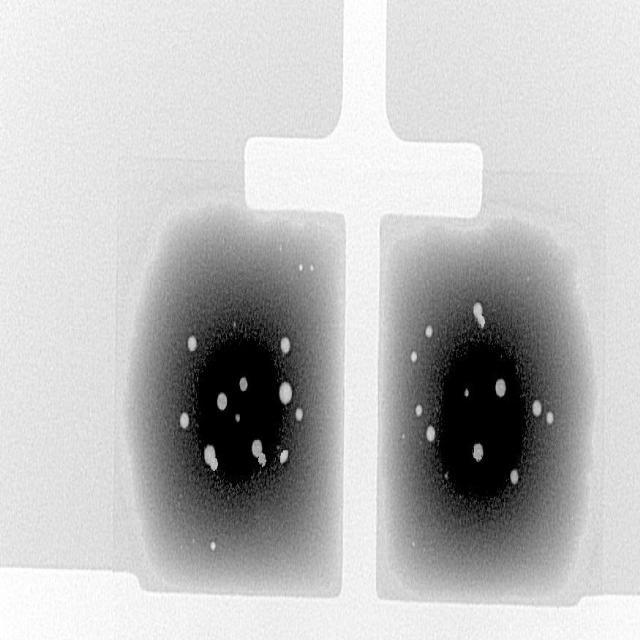chip: (126, 209, 344, 594), (386, 226, 589, 594)
void: (204, 444, 217, 471), (473, 302, 485, 328), (279, 382, 292, 405), (253, 449, 266, 466), (472, 443, 483, 462), (252, 439, 261, 461), (495, 378, 505, 397), (187, 335, 197, 352), (532, 400, 542, 417), (217, 392, 226, 410), (281, 337, 290, 354), (180, 413, 189, 429), (426, 427, 434, 442), (415, 404, 423, 417), (239, 378, 246, 391), (410, 350, 417, 363), (280, 451, 288, 462), (511, 470, 517, 484), (546, 412, 553, 424), (425, 326, 432, 337), (296, 409, 302, 421)
